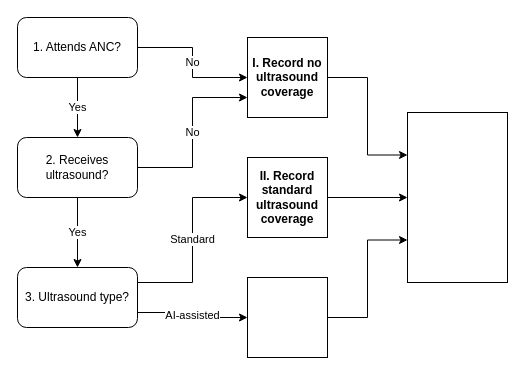
Image size: 525x375. Some labels were removed from this diagram. Each missing label, with the box of its shape:
III. Record AI-assisted ultrasound coverage: (246, 276, 328, 358)
IV. Estimate "believed" gestational age: (406, 112, 508, 282)
